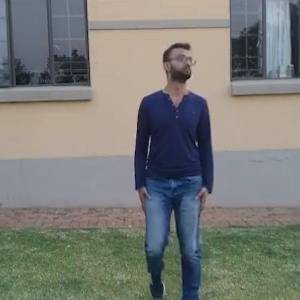follow: (129, 27, 221, 284)
